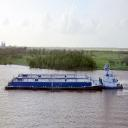tugboat: (99, 62, 124, 93)
